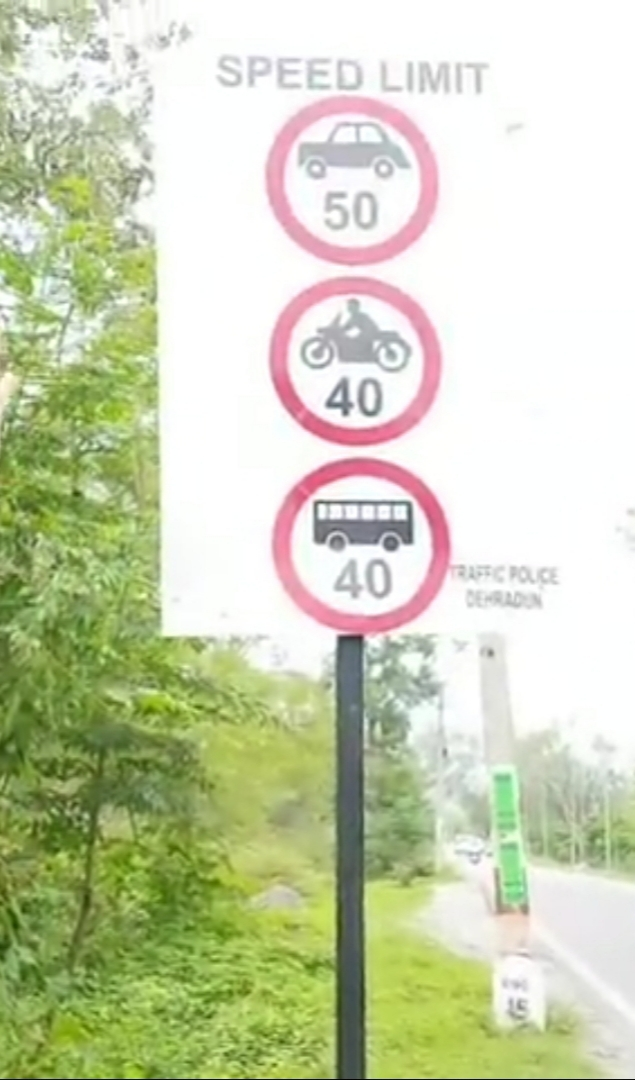traffic_sign: (154, 0, 635, 639)
